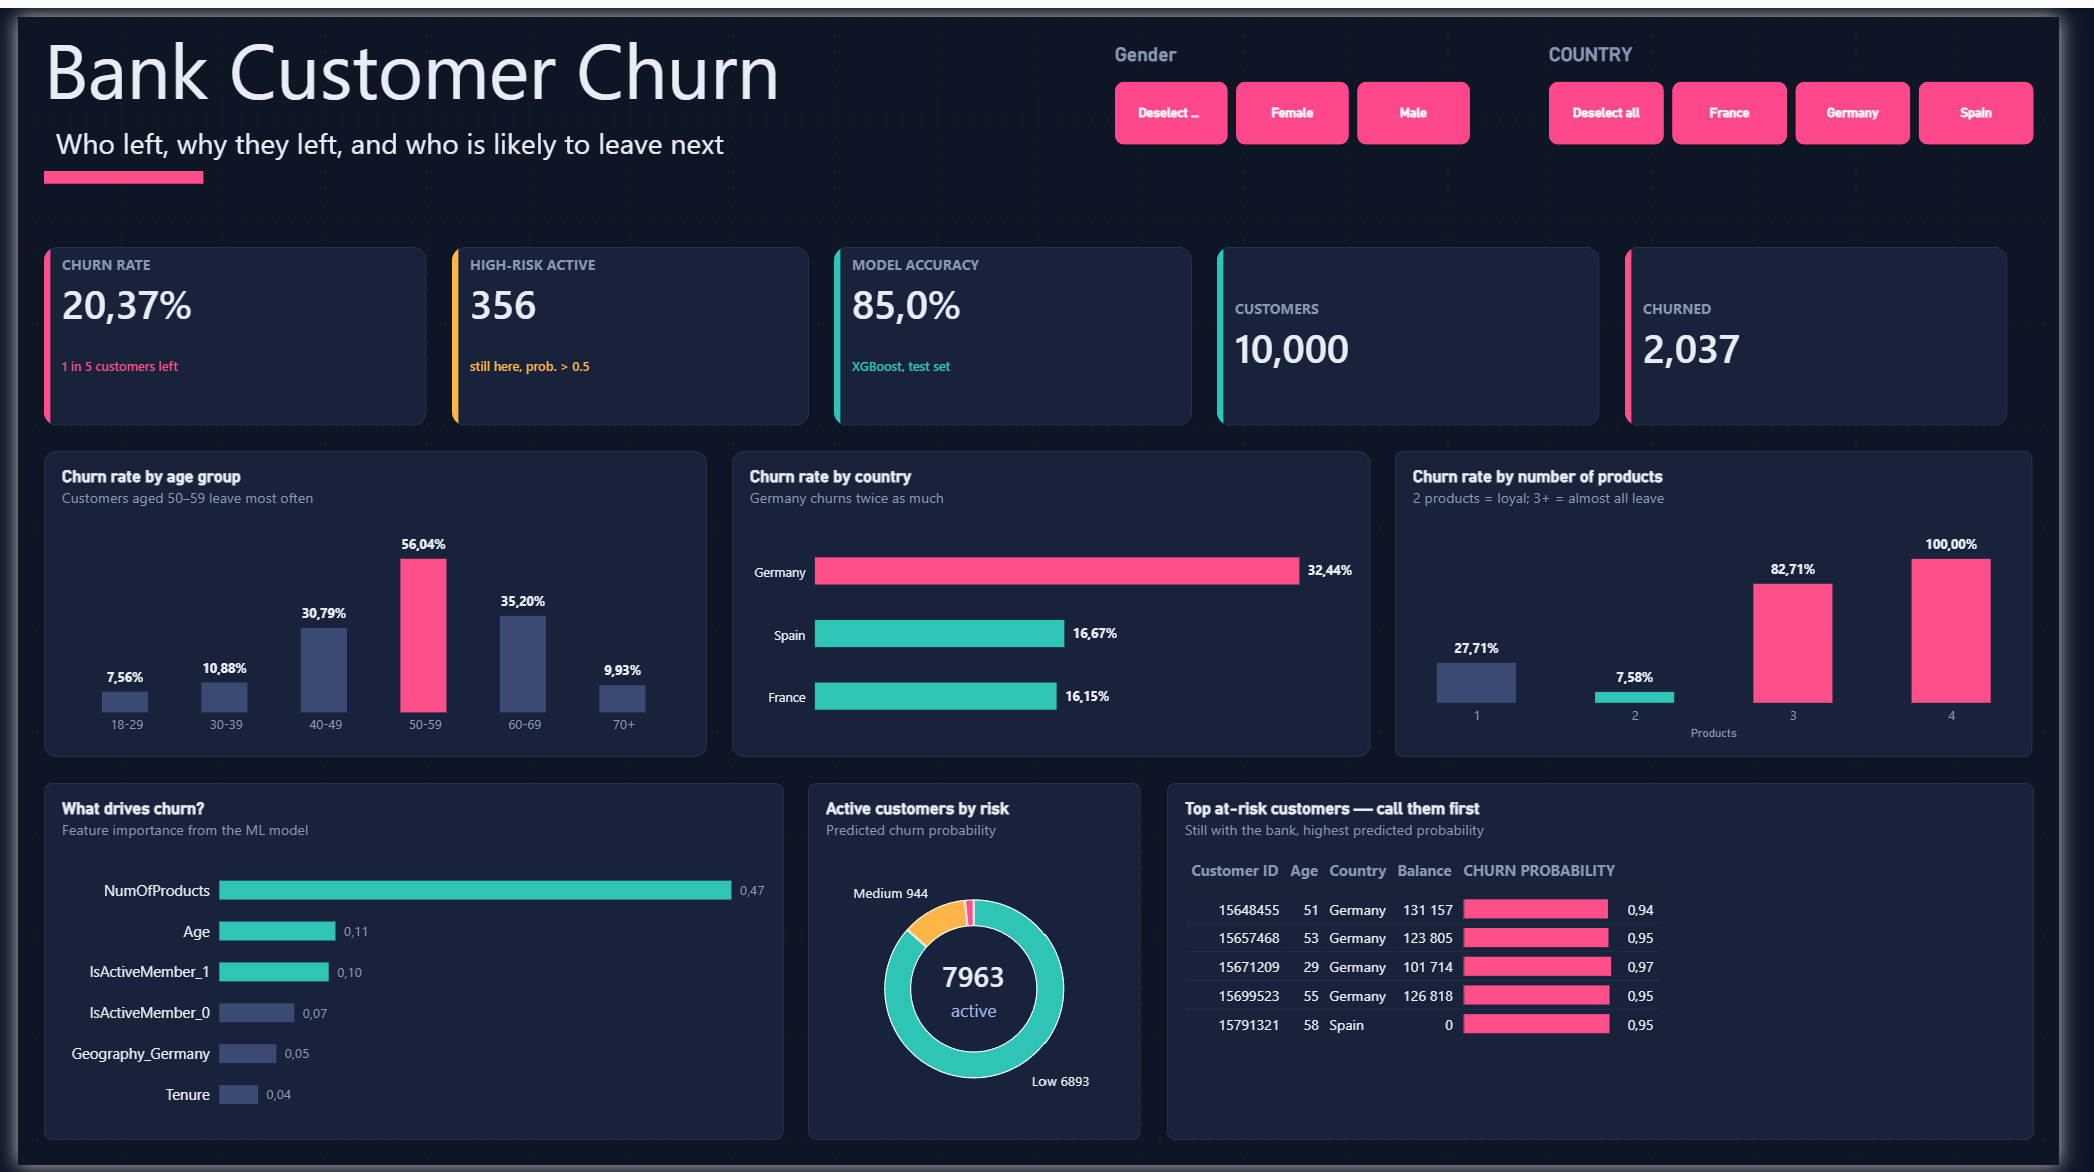

This screenshot's page, from the dashboard's own definition file:
{"tool":"powerbi","page":{"name":"Page 1","canvas":[1920,1080],"ordinal":0},"visuals":[{"type":"textbox","box":[24,0,720,96],"z":0},{"type":"textbox","box":[35,100,700,90],"z":1000},{"type":"cardVisual","title":"CUSTOMERS","fields":{"Data":["Customers.Customers Text"]},"box":[1128,216,360,168],"z":2000},{"type":"cardVisual","fields":{"Data":["Customers.Churned Text"]},"box":[1512,216,360,168],"z":3000},{"type":"cardVisual","fields":{"Data":["Customers.Churn Rate %"]},"box":[24,216,360,168],"z":4000},{"type":"cardVisual","fields":{"Data":["Customers.High-Risk Active Customers"]},"box":[408,216,336,168],"z":5000},{"type":"cardVisual","fields":{"Data":["Customers.Model Accuracy"]},"box":[768,216,336,168],"z":6000},{"type":"clusteredColumnChart","title":"Churn rate by age group","fields":{"Category":["Customers.Age Group"],"Y":["Customers.Churn Rate %"]},"box":[24,408,624,288],"z":10000},{"type":"clusteredBarChart","title":"Churn rate by country","fields":{"Category":["Customers.Geography"],"Y":["Customers.Churn Rate %"]},"box":[672,408,600,288],"z":11000},{"type":"clusteredColumnChart","title":"Churn rate by number of products","fields":{"Category":["Customers.NumOfProducts"],"Y":["Customers.Churn Rate %"]},"box":[1296,408,600,288],"z":12000},{"type":"clusteredBarChart","title":"What drives churn?","fields":{"Category":["FeatureImportance.Feature"],"Y":["Sum(FeatureImportance.Feature Importance Score)"]},"box":[24,720,696,336],"z":13000},{"type":"donutChart","title":"Active customers by risk","fields":{"Category":["Customers.Risk Level"],"Y":["CountNonNull(Customers.CustomerId)"]},"box":[744,720,312,336],"z":14000},{"type":"tableEx","title":"Top at-risk customers — call them first","fields":{"Values":["Customers.CustomerId","Customers.Age","Customers.Geography","Sum(Customers.Balance)","Sum(Customers.Exited Prediction Probability)","Customers.Probability Number"]},"box":[1080,720,816,336],"z":15000},{"type":"shape","box":[24,144,150,12],"z":15001},{"type":"advancedSlicerVisual","title":"COUNTRY","fields":{"Values":["Customers.Geography"]},"box":[1440,24,456,96],"z":15002},{"type":"advancedSlicerVisual","fields":{"Values":["Customers.Gender"]},"box":[1032,24,336,96],"z":15003}]}

Visuals, with their boxes in screenshot pixels (x1, y1, x2, y2), scaled from the page's 1920x1080 canvas onto the 2094x1172 screenshot:
textbox: 26 0 811 104
textbox: 38 109 802 206
"CUSTOMERS" cardVisual: 1230 234 1623 417
cardVisual - Customers.Churned Text: 1649 234 2042 417
cardVisual - Customers.Churn Rate %: 26 234 419 417
cardVisual - Customers.High-Risk Active Customers: 445 234 811 417
cardVisual - Customers.Model Accuracy: 838 234 1204 417
"Churn rate by age group" clusteredColumnChart: 26 443 707 755
"Churn rate by country" clusteredBarChart: 733 443 1387 755
"Churn rate by number of products" clusteredColumnChart: 1413 443 2068 755
"What drives churn?" clusteredBarChart: 26 781 785 1146
"Active customers by risk" donutChart: 811 781 1152 1146
"Top at-risk customers — call them first" tableEx: 1178 781 2068 1146
shape: 26 156 190 169
"COUNTRY" advancedSlicerVisual: 1570 26 2068 130
advancedSlicerVisual - Customers.Gender: 1126 26 1492 130
